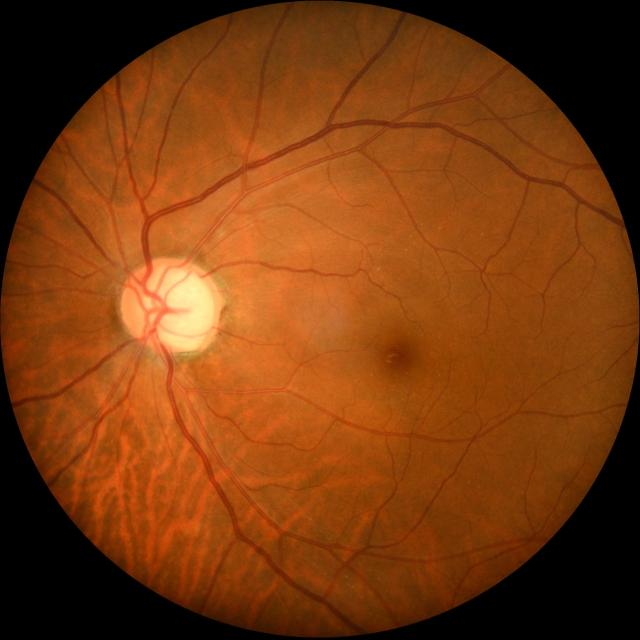OC: (142, 270, 213, 350)
OD: (119, 258, 218, 352)
